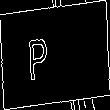P_N: (44, 28, 66, 82)
